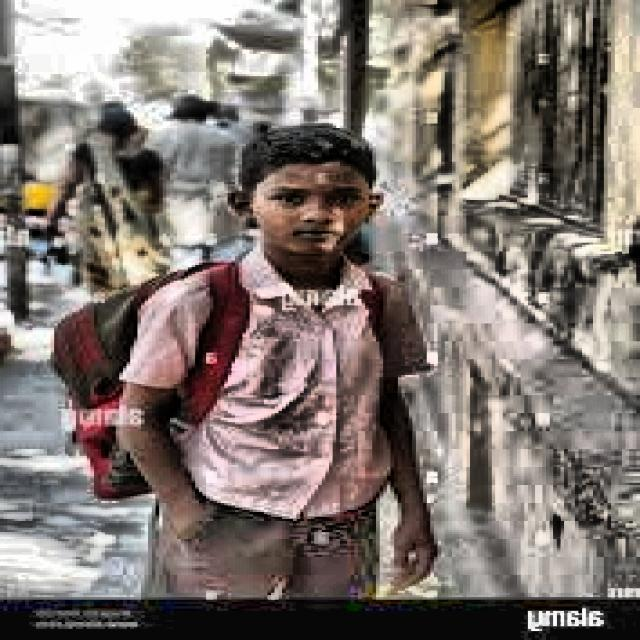Human: (94, 71, 472, 604)
